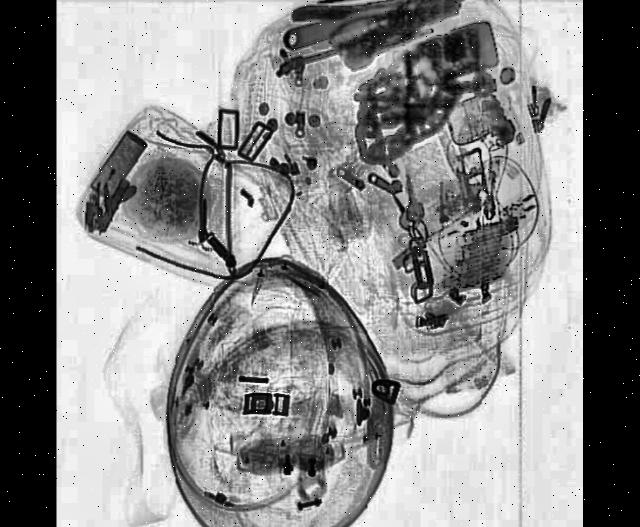Wrench: (280, 0, 465, 68)
